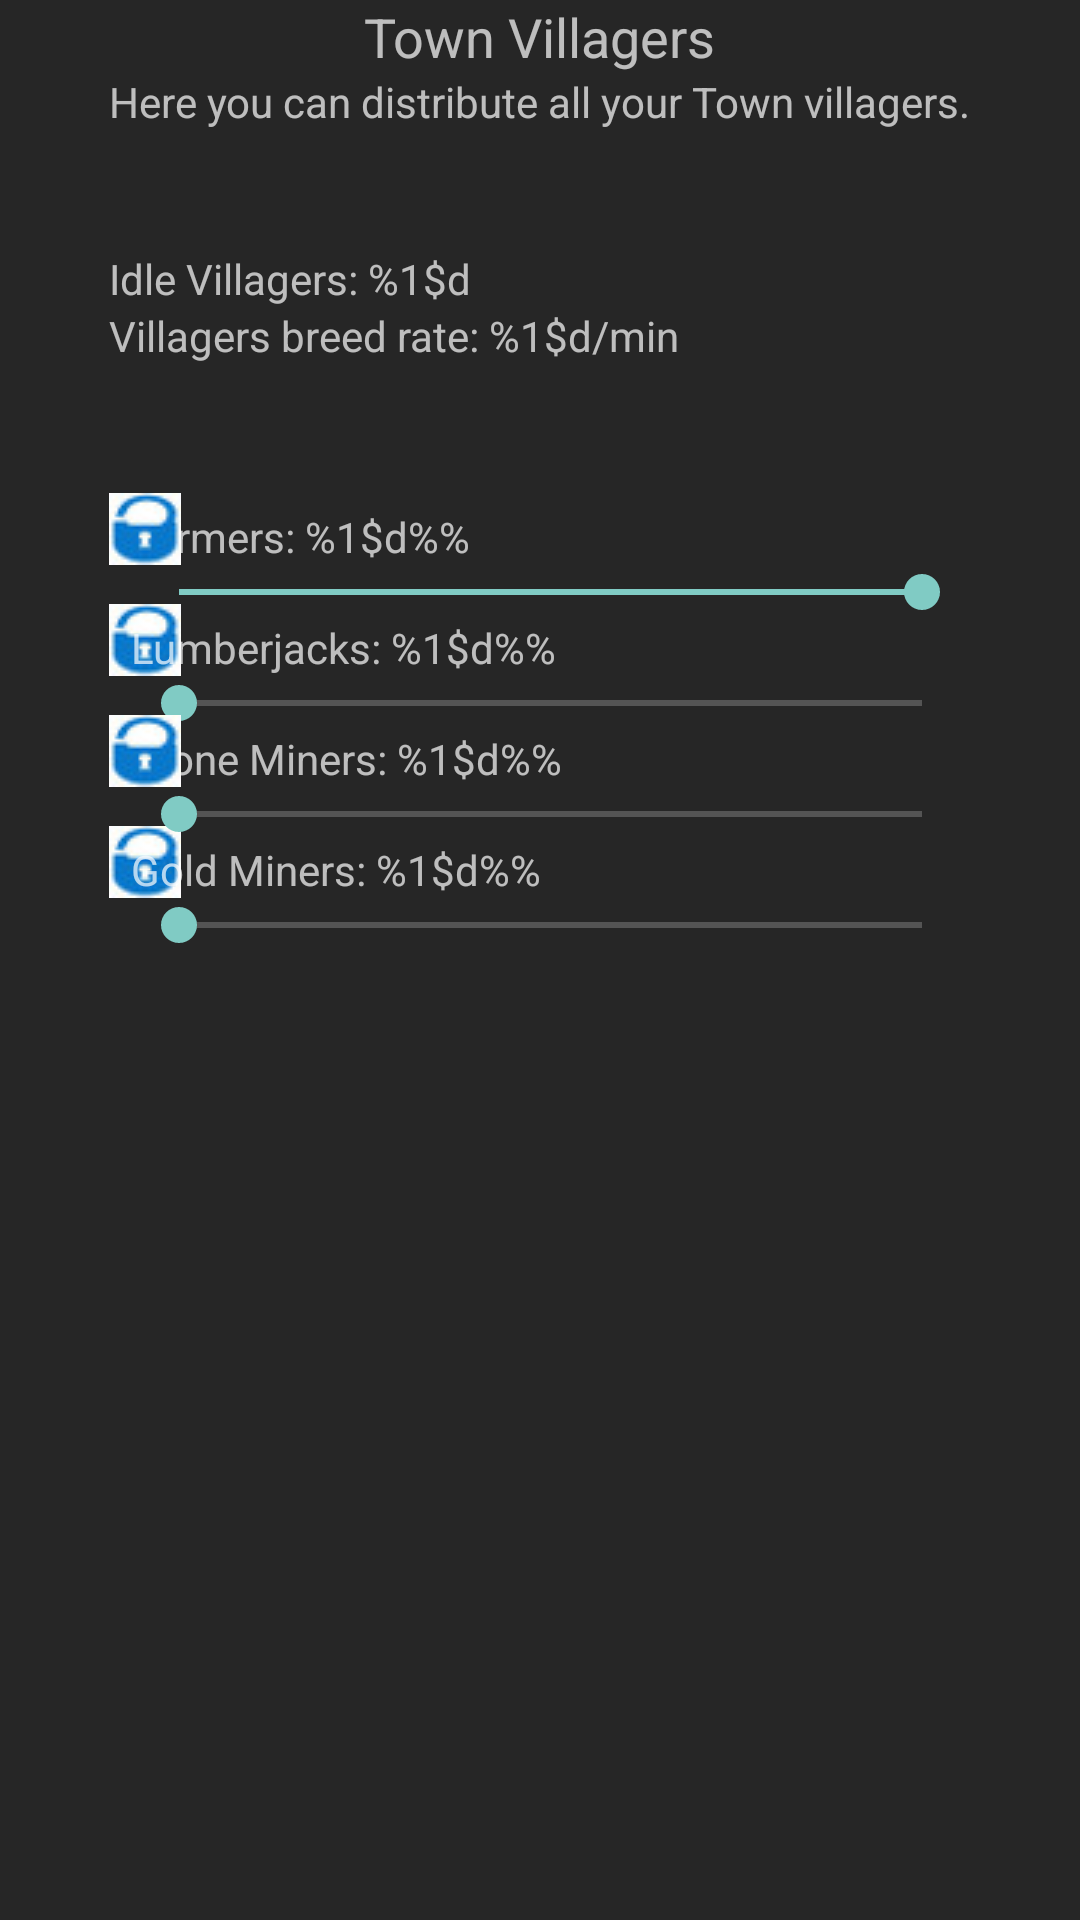

Named icons in this screenshot (1080x1920) and their centers, point (x, y):
checkbox lock: point (145, 529), point (145, 640), point (145, 751), point (145, 862)
